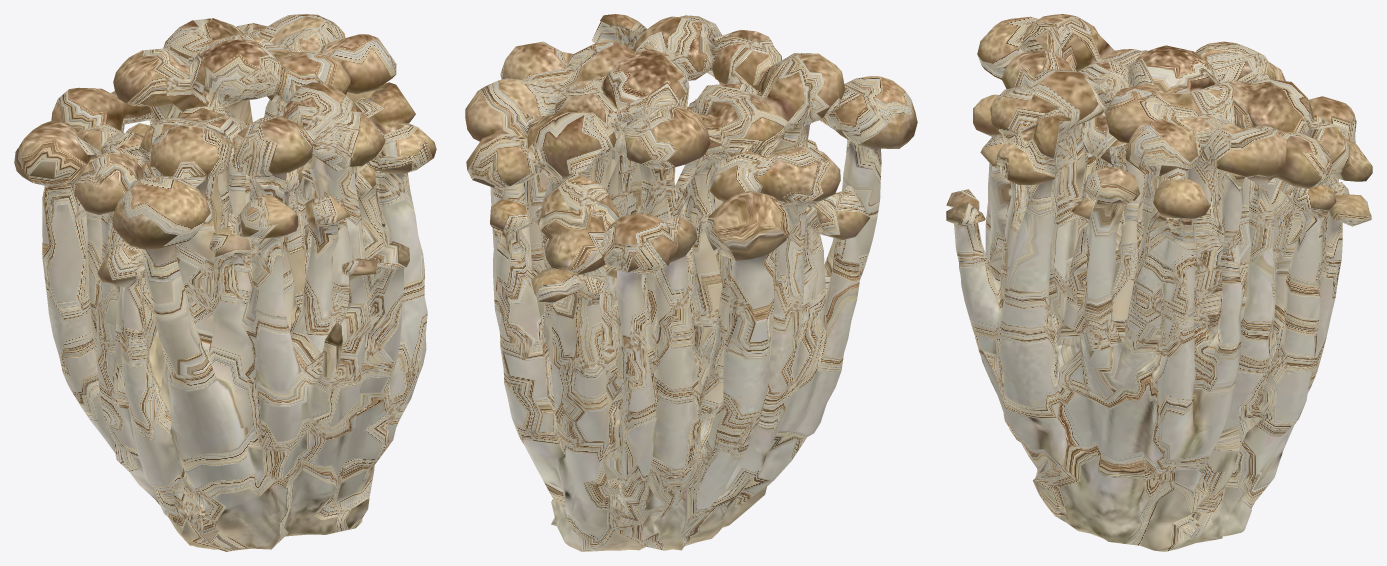
3 views of the same model, side by side, from view 1: azimuth 30°, elevation 25°; view 2: azimuth 150°, elevation 25°; view 3: azimuth 270°, elevation 25° (orthographic). The views are drawn at different scales.
Bounding box in the file's own units: 1.44 × 1.89 × 1.57.
1 material, 1 textured.
